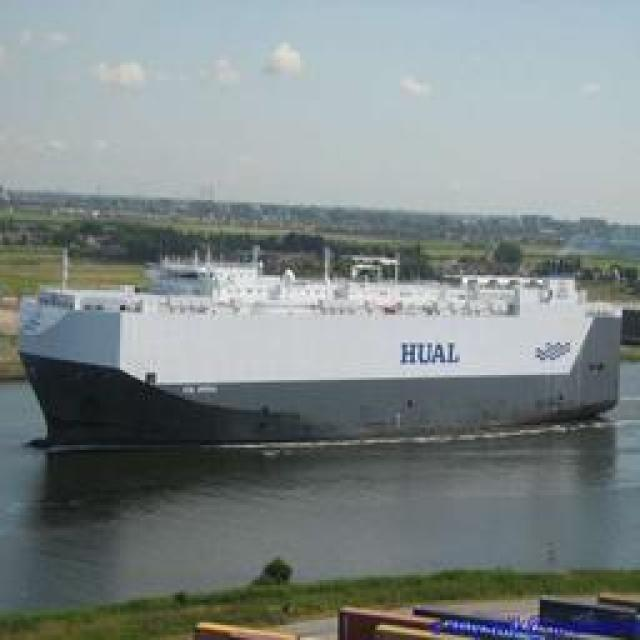CIV_Ship: (8, 256, 632, 446)
